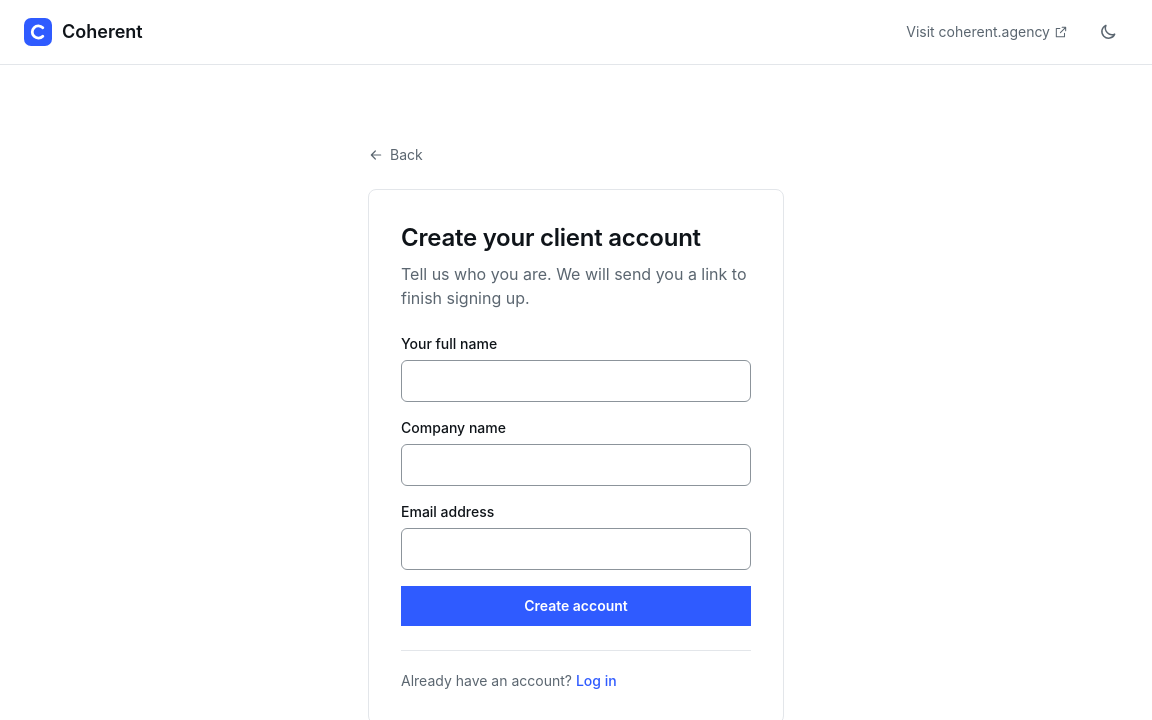
Test: signup › validates required fields with friendly messages
Click the button "Create account": (576, 606) [401, 586, 751, 626]
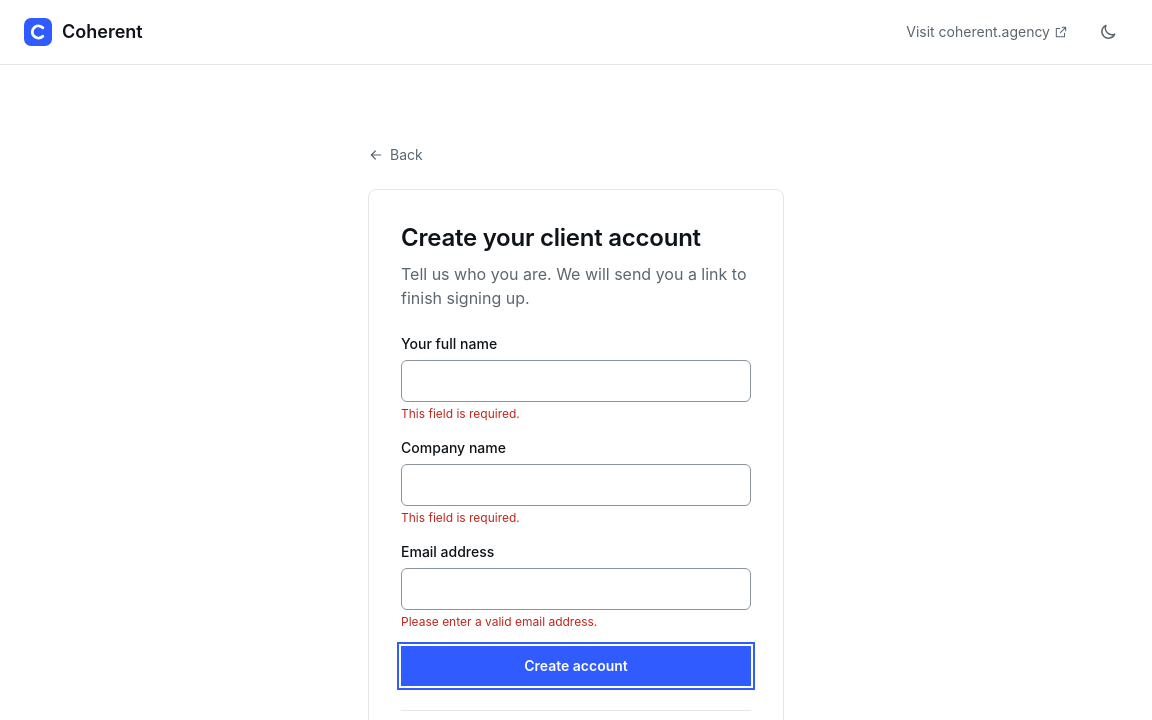
Check: the text "This field is required." is shown 2 times, box [401, 406, 520, 421]; [401, 510, 520, 525]
Check: the text "Please enter a valid email address." is shown, box [401, 614, 597, 629]
